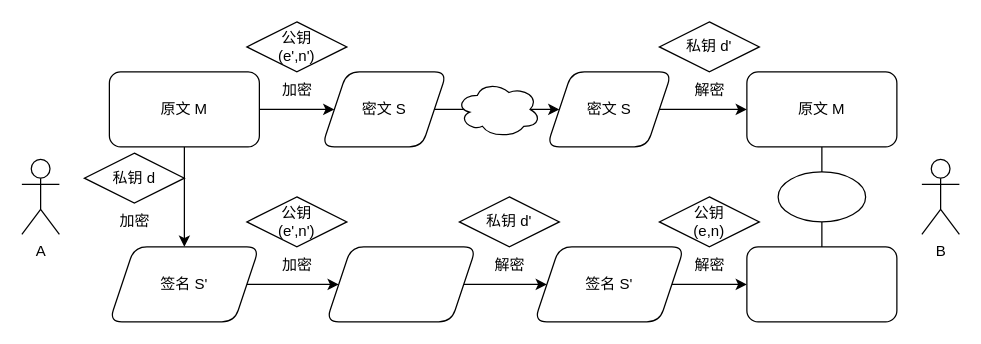
The diagram is 981 pixels wide and 344 high, and some of its shapes have lost their labels. The shapes that lost their labels are listed below. From the top down, each one's box as (x1, y1, x2, y2) in pixels, then its label:
(455, 80, 541, 138): 互联网
(777, 171, 866, 222): 对比
(325, 246, 476, 322): 签名密文 C
(746, 246, 897, 322): 原文 M'
